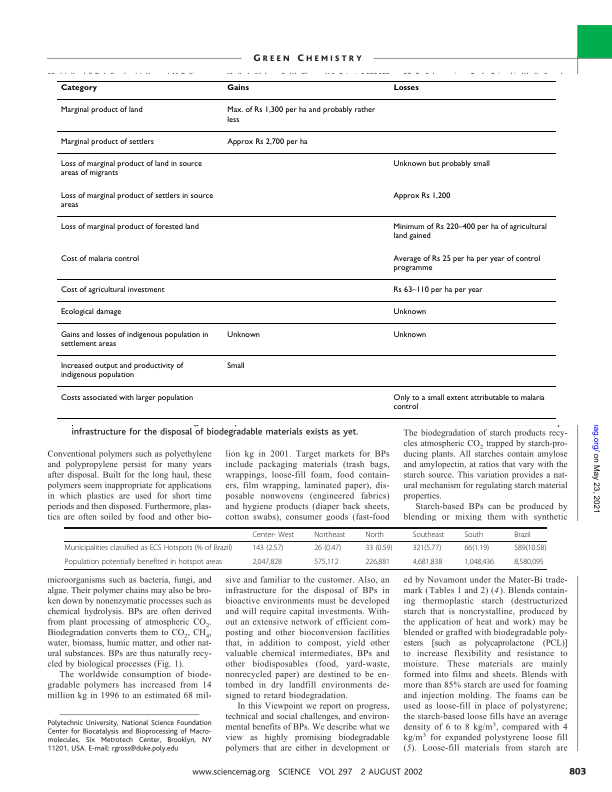borderless: (56, 79, 556, 418), (64, 526, 547, 569)
cell: (59, 191, 214, 210), (392, 222, 547, 241), (392, 393, 545, 412), (226, 106, 376, 125), (59, 330, 209, 349), (392, 254, 541, 273), (59, 159, 202, 178), (59, 361, 184, 380), (64, 543, 233, 553), (64, 557, 223, 567), (59, 222, 199, 232), (59, 393, 194, 403), (59, 285, 165, 295), (392, 159, 490, 169), (59, 137, 154, 147), (392, 285, 483, 295), (226, 137, 308, 147), (59, 254, 140, 264), (59, 106, 143, 115), (392, 191, 451, 201), (59, 308, 122, 317), (251, 530, 295, 539), (392, 330, 427, 340), (59, 84, 97, 93), (513, 543, 547, 553), (226, 330, 260, 340), (251, 543, 284, 553), (251, 557, 283, 567), (463, 557, 495, 567), (513, 557, 545, 567), (392, 308, 427, 317), (412, 557, 443, 567), (412, 543, 442, 553), (313, 530, 346, 539), (412, 530, 445, 539), (313, 543, 342, 553), (364, 543, 393, 553), (463, 543, 490, 553), (364, 557, 391, 567), (313, 557, 339, 567), (392, 84, 419, 93), (226, 84, 249, 93), (226, 361, 245, 371), (364, 530, 385, 539), (463, 530, 484, 539), (513, 530, 532, 539)
